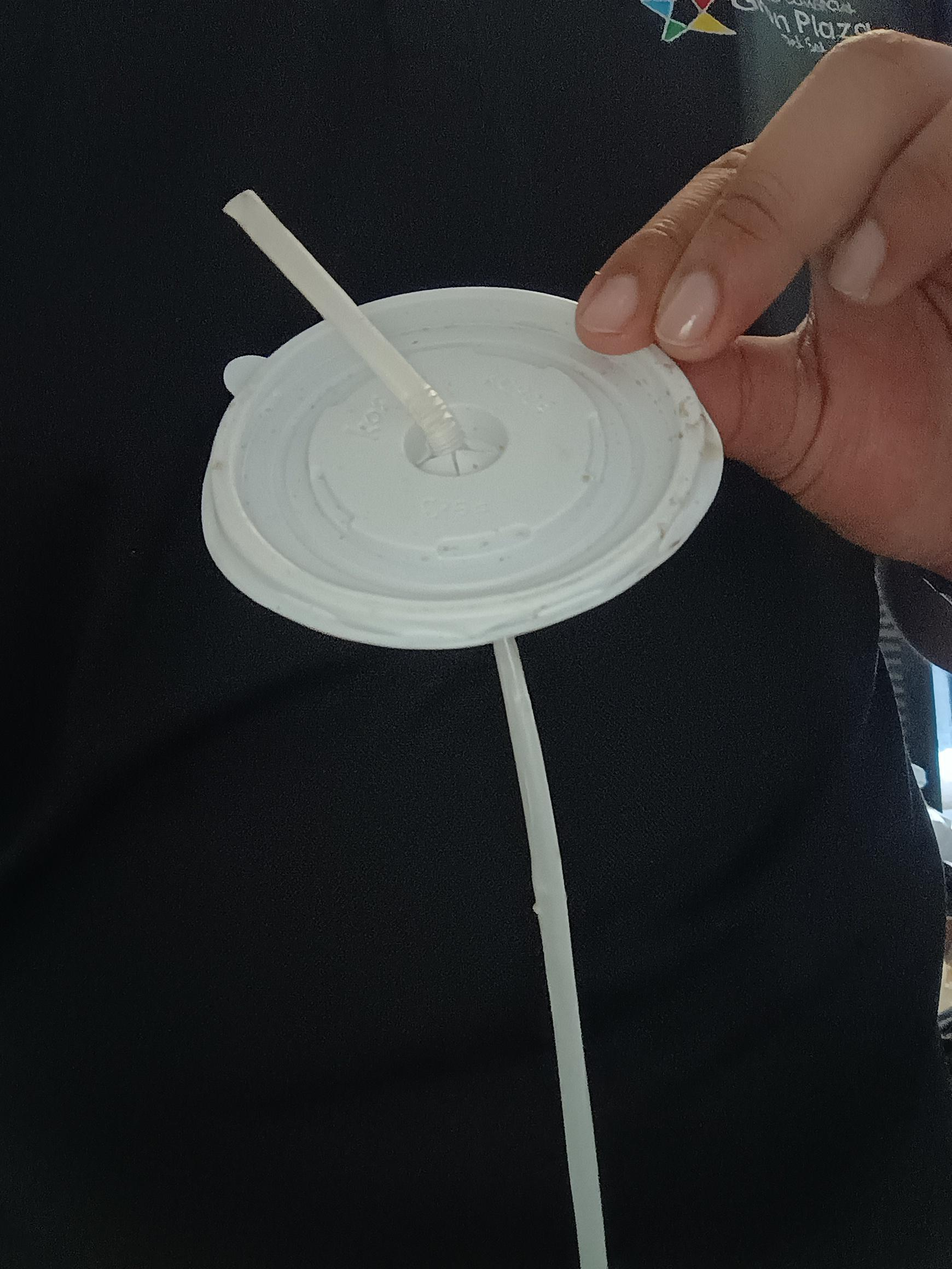Ordinario: (186, 182, 728, 658)
